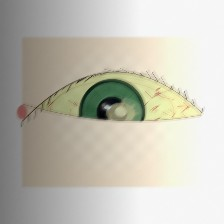corneal_ulcer: (97, 94, 144, 132)
